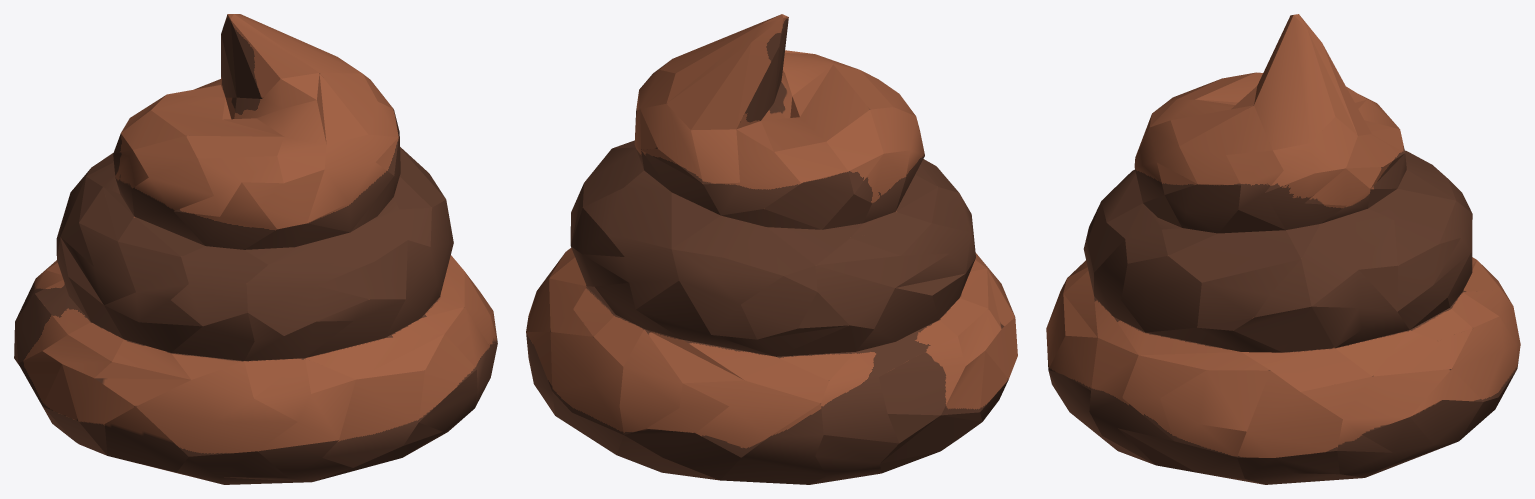
File: coco.gltf
3 renders of one model, left to right at view 1: azimuth 30°, elevation 25°; view 2: azimuth 150°, elevation 25°; view 3: azimuth 270°, elevation 25°, orthographic. The views are drawn at different scales.
Parts seen in each view (by area): view 1: coco; view 2: coco; view 3: coco.
Part boxes in pixels (x1,y1,x2,y2): coco: (14, 14, 497, 484); coco: (526, 14, 1017, 484); coco: (1046, 14, 1520, 484).
Size of the model in its own units: 1.89 by 1.65 by 1.89.
Materials: 1 (1 with a texture image).
